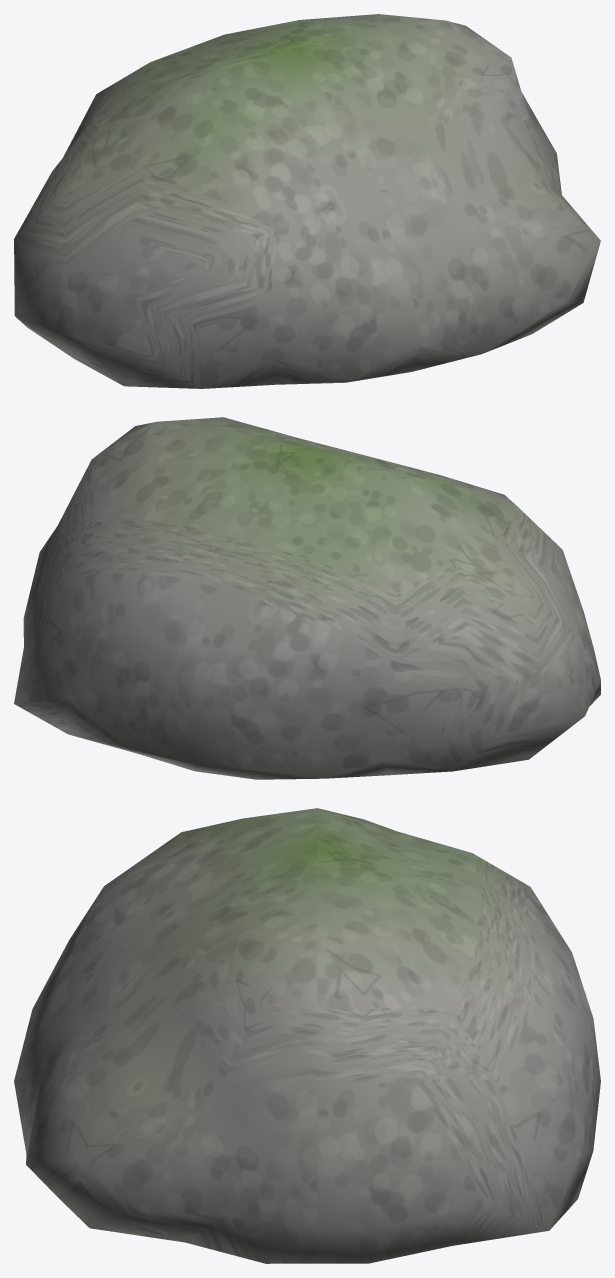
Rendered from ore_stone_boulder.glb.
3 views of the same model, one above another, from view 1: azimuth 30°, elevation 25°; view 2: azimuth 150°, elevation 25°; view 3: azimuth 270°, elevation 25° (orthographic). The views are drawn at different scales.
Parts seen in each view (by area): view 1: ore_stone_stone; view 2: ore_stone_stone; view 3: ore_stone_stone.
Boxes of the visible parts, x1=… form: ore_stone_stone: x1=14, y1=14, x2=600, y2=388; ore_stone_stone: x1=14, y1=417, x2=600, y2=779; ore_stone_stone: x1=14, y1=808, x2=600, y2=1263.
Size of the model in its own units: 2.3 by 1.01 by 1.86.
1 material, 1 textured.
